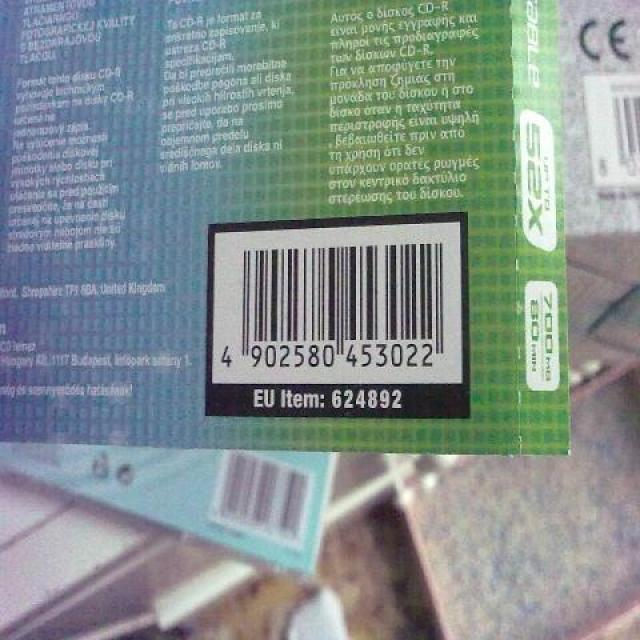Barcode: (214, 221, 462, 384)
